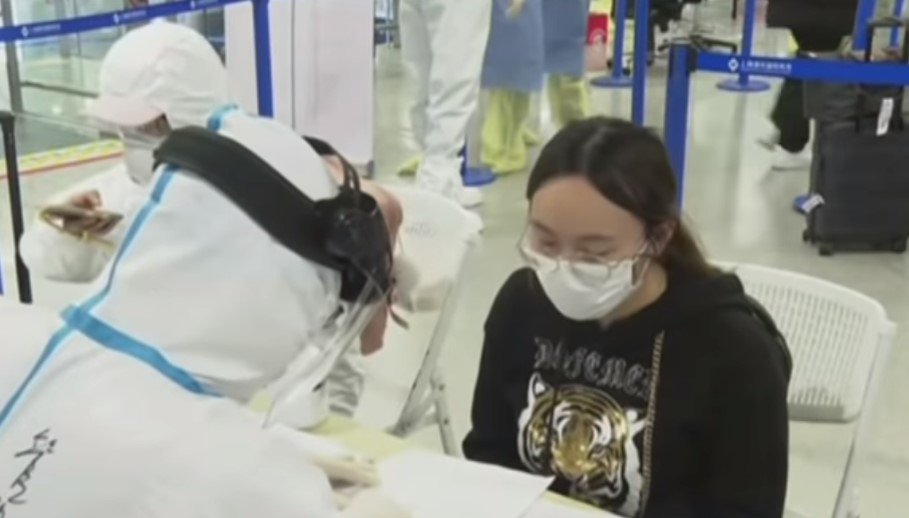face_with_mask: (508, 105, 680, 322)
